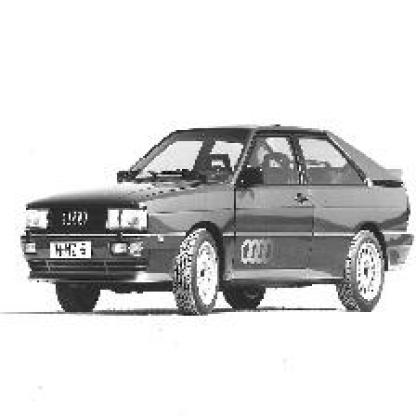not_emergency: (22, 106, 414, 343)
